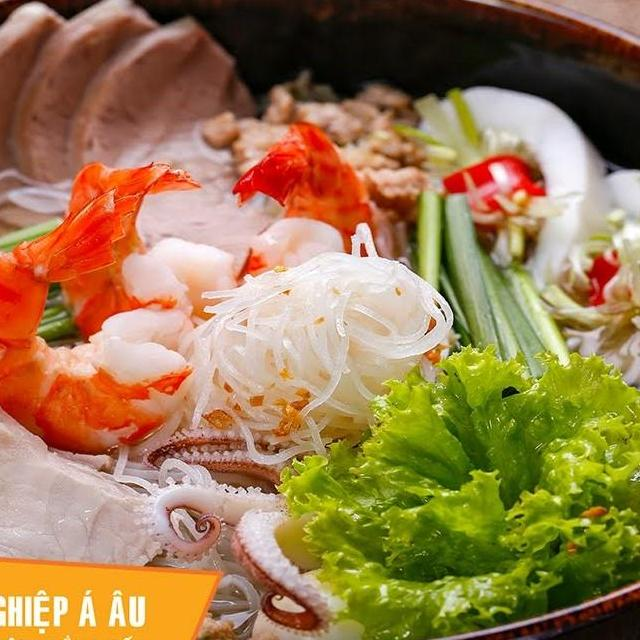banh hu tieu: (142, 218, 468, 467)
hu tieu: (0, 33, 640, 640)
muc: (130, 414, 387, 640), (398, 80, 614, 334), (548, 157, 640, 398)
thit bam: (192, 62, 436, 218)
thit heo: (0, 382, 156, 562)
tom: (0, 179, 196, 456), (58, 152, 248, 344), (202, 116, 388, 298)
